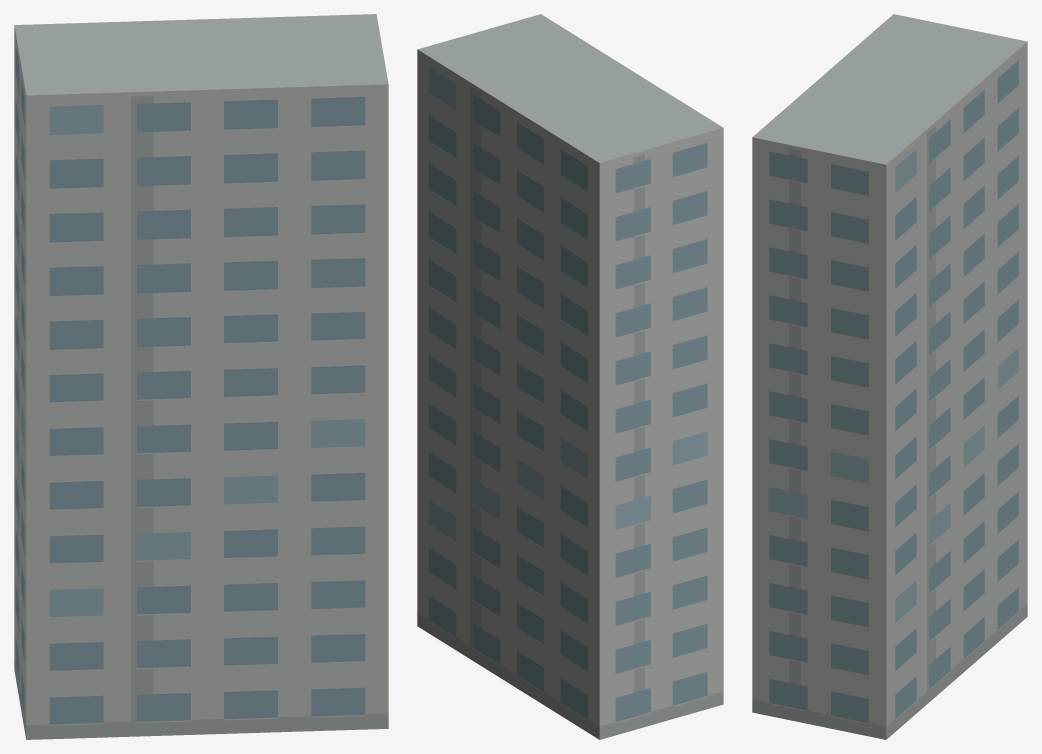
The model's file is residential-e1c79c5c-7f86-4616-87f1-f1edc32085bd.glb.
The picture shows the model from 3 angles, left to right: view 1: azimuth 30°, elevation 25°; view 2: azimuth 150°, elevation 25°; view 3: azimuth 270°, elevation 25°; orthographic projection. The views are drawn at different scales.
Visible parts, largest first — view 1: residential-e1c79c5c-7f86-4616-87f1-f1edc32085bd.tmp; view 2: residential-e1c79c5c-7f86-4616-87f1-f1edc32085bd.tmp; view 3: residential-e1c79c5c-7f86-4616-87f1-f1edc32085bd.tmp.
Part boxes in pixels (x1,y1,x2,y2): residential-e1c79c5c-7f86-4616-87f1-f1edc32085bd.tmp: (14, 14, 388, 739); residential-e1c79c5c-7f86-4616-87f1-f1edc32085bd.tmp: (417, 14, 723, 739); residential-e1c79c5c-7f86-4616-87f1-f1edc32085bd.tmp: (752, 14, 1027, 739).
Bounding box in the file's own units: 20.8 × 37 × 16.06.
